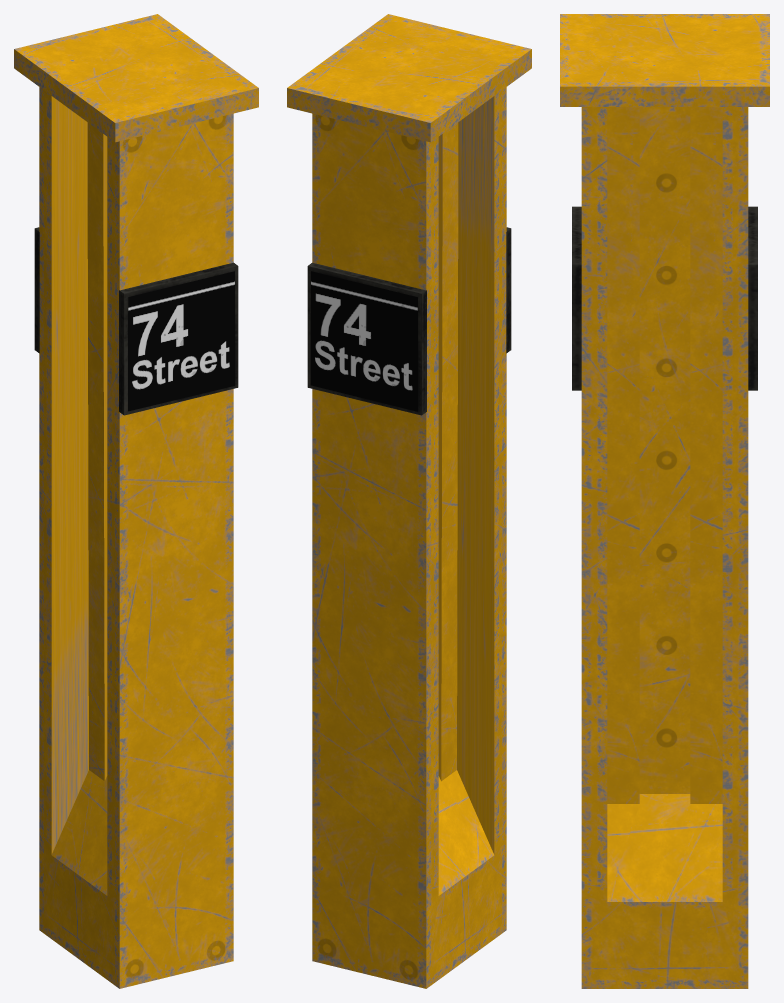
The model's file is Pillar_02.fbx.
The picture shows the model from 3 angles, left to right: view 1: azimuth 30°, elevation 25°; view 2: azimuth 150°, elevation 25°; view 3: azimuth 270°, elevation 25°; orthographic projection. The views are drawn at different scales.
Visible parts, largest first — view 1: Pillar_02; view 2: Pillar_02; view 3: Pillar_02.
Boxes of the visible parts, box(x1,y1,x2,y2) form: Pillar_02: box(14, 14, 258, 988); Pillar_02: box(287, 14, 531, 988); Pillar_02: box(560, 14, 769, 988).
Bounding box in the file's own units: 43.87 × 256 × 53.46.
